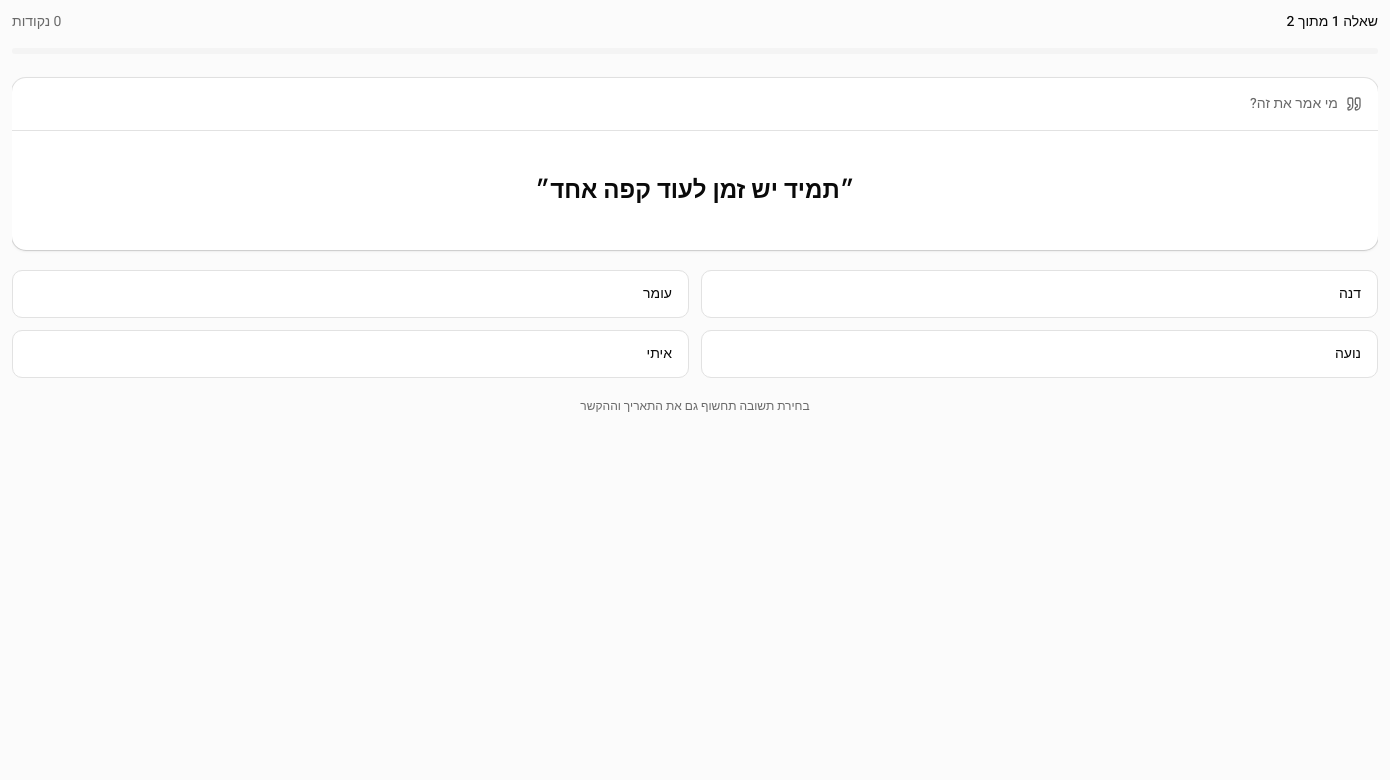
Scenario: WhoSaidItGame › scores a double-click on the right name only once
Double-click the button "דנה" at (1350, 294), box [701,270,1378,318]
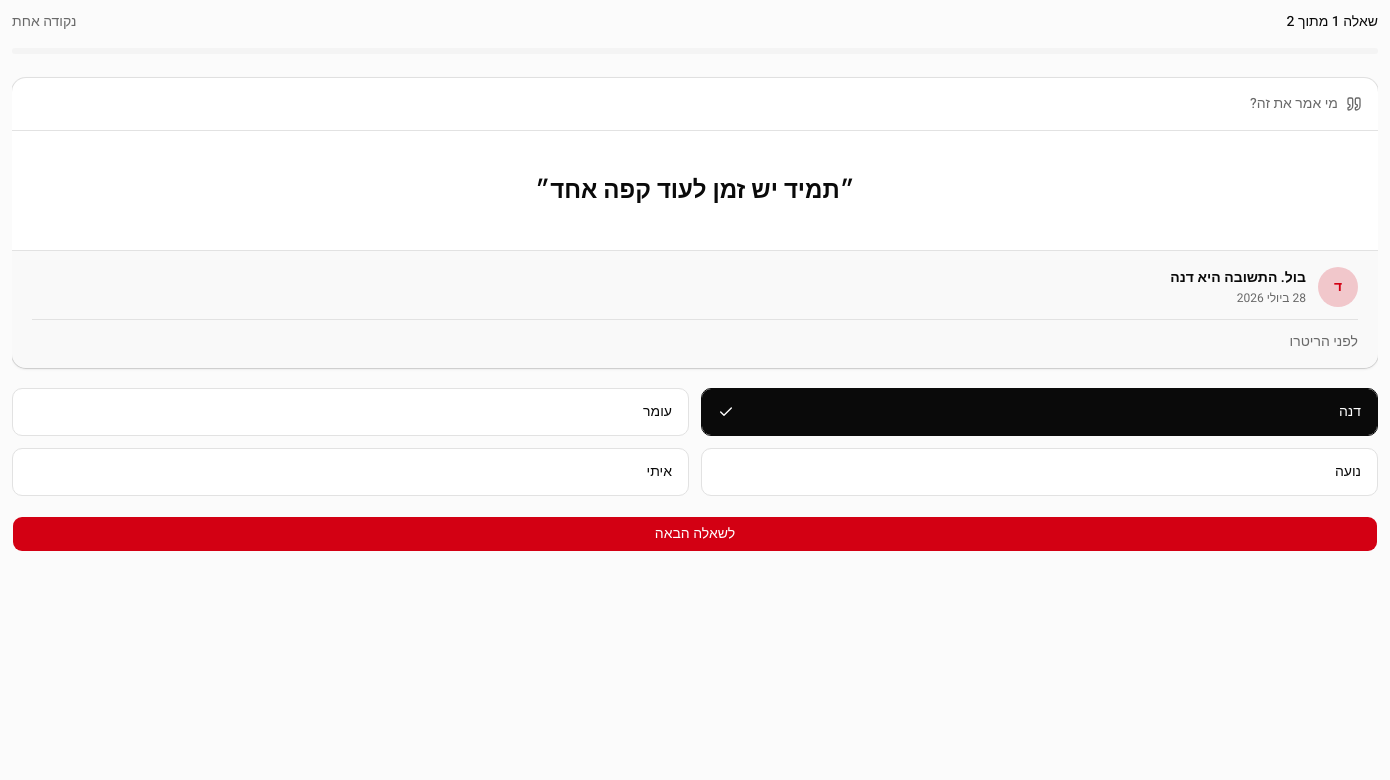
Check: the text "נקודה אחת" is shown, box [12,12,76,32]
